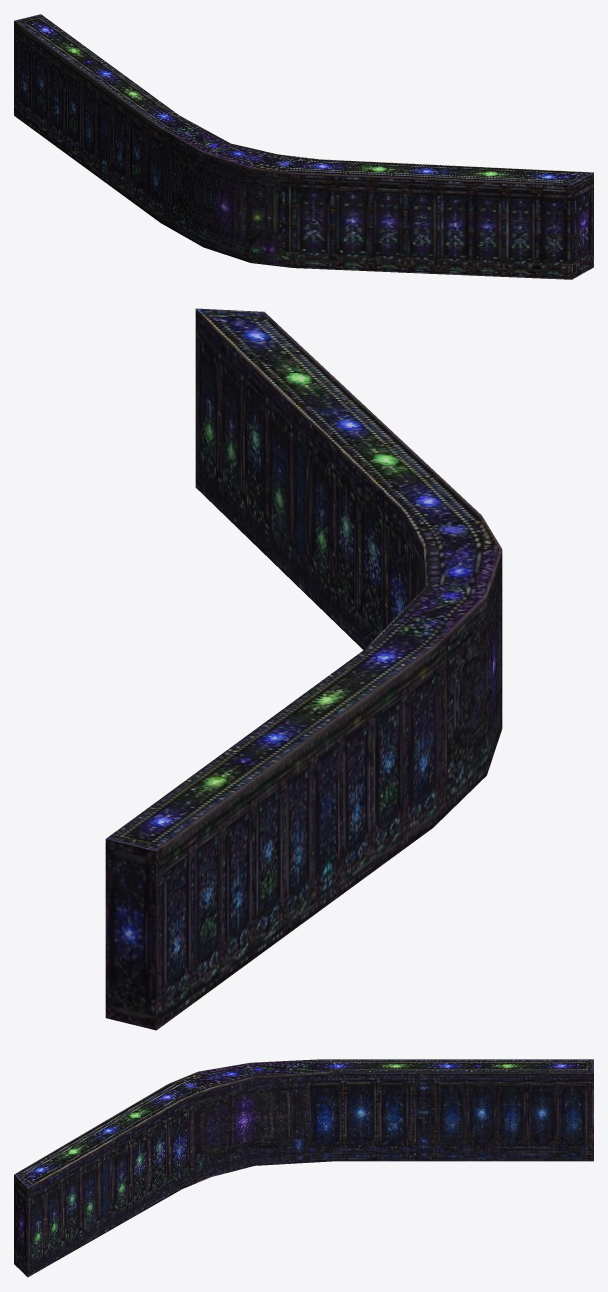
The model's file is ramp_pale_down_left_death_lvl_4.glb.
3 renders of one model, top to bottom at view 1: azimuth 30°, elevation 25°; view 2: azimuth 150°, elevation 25°; view 3: azimuth 270°, elevation 25°, orthographic. The views are drawn at different scales.
Parts seen in each view (by area): view 1: Mesh_0.005; view 2: Mesh_0.005; view 3: Mesh_0.005.
Boxes of the visible parts, x1,y1,x2,y2 form: Mesh_0.005: [14, 14, 593, 279]; Mesh_0.005: [105, 308, 502, 1030]; Mesh_0.005: [14, 1059, 593, 1277].
Bounding box in the file's own units: 0.1275 × 0.0414 × 0.2431.
Materials: 1 (1 with a texture image).
